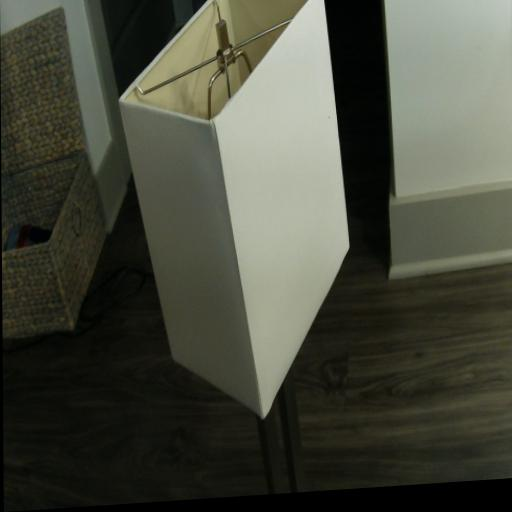lamp: (118, 0, 352, 504)
